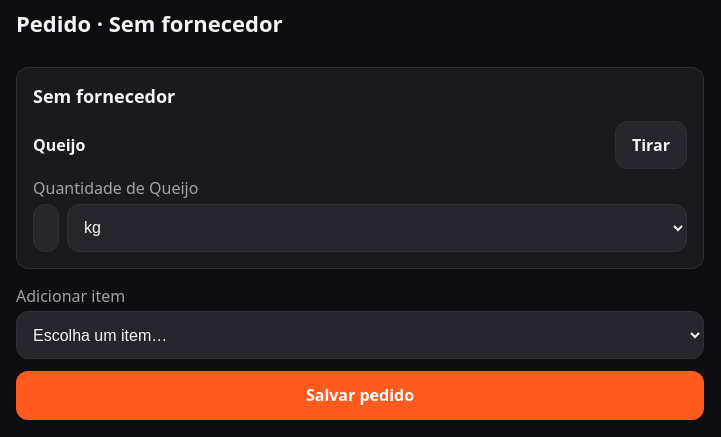
Test: Lista de compras › Tirar do pedido remove a linha
What coordinates should you click on to do the following:
click the button with aria-label "Tirar Queijo da lista"
I would click on:
 (651, 145)
Its box is [615,121,687,169].
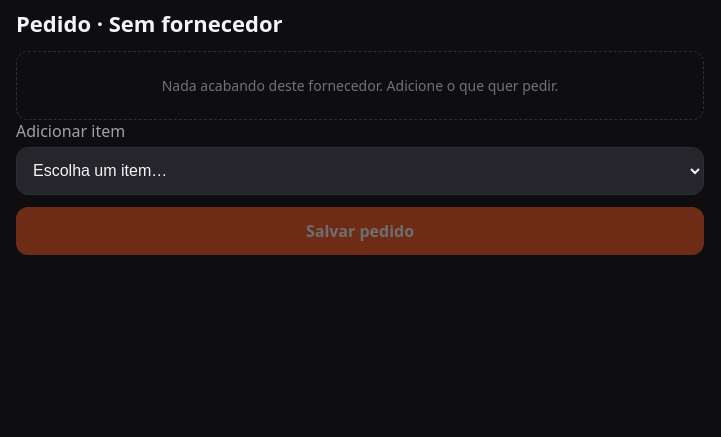
Expected: the label labelled "Quantidade de Queijo" is gone
Expected: the button "Salvar pedido" is disabled, [16,207,704,255]
